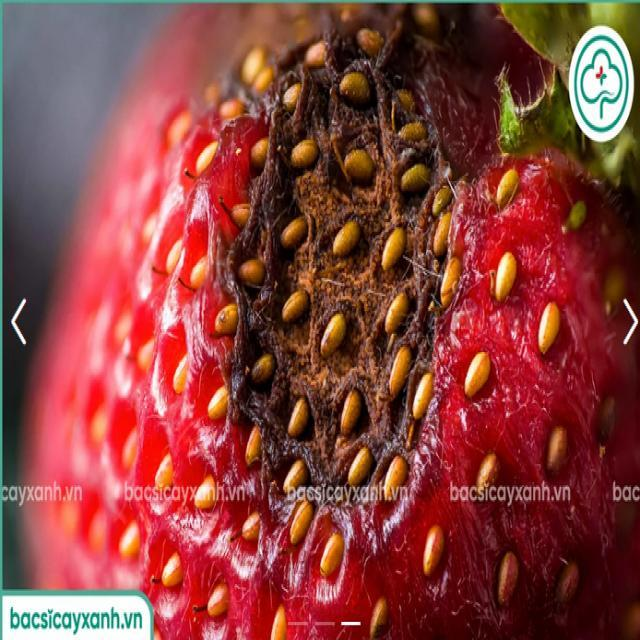Mancha negra Antracnosis: (46, 9, 633, 594)
